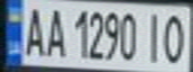0: (118, 8, 142, 62)
1: (66, 6, 90, 60)
2: (84, 7, 106, 60)
9: (103, 7, 124, 61)
A: (18, 2, 48, 57), (42, 3, 69, 59)
I: (142, 9, 169, 64)
O: (160, 9, 190, 65)
